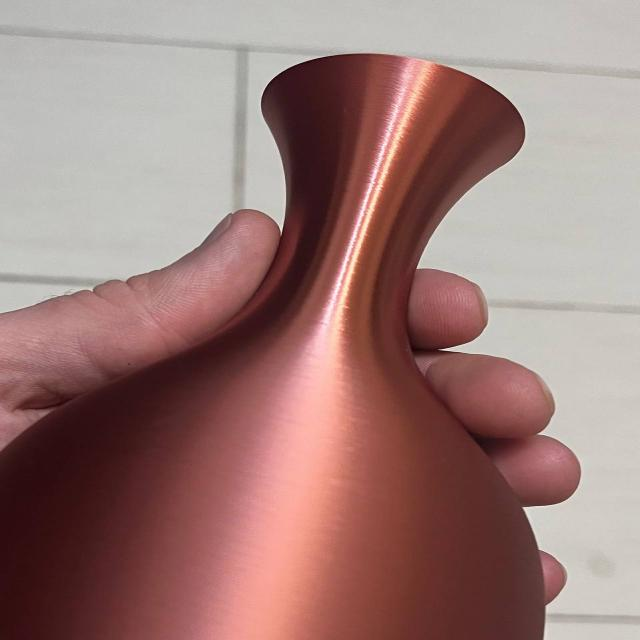Without deffect: (1, 27, 602, 640)
